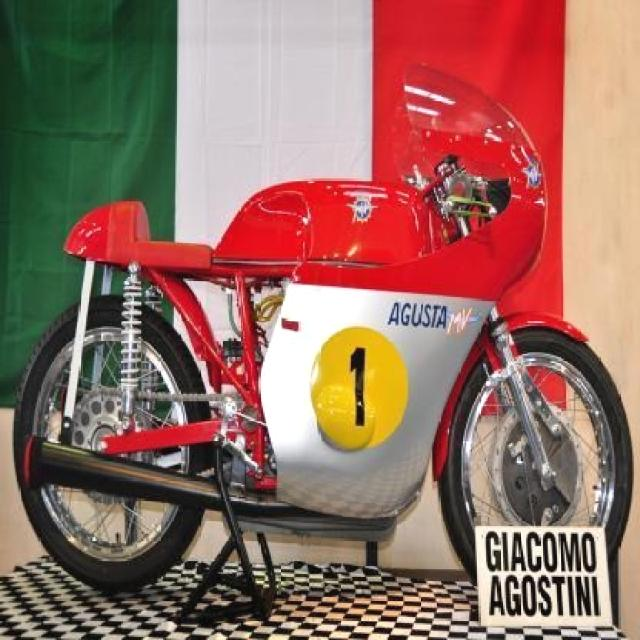Cycle: (13, 63, 638, 633)
